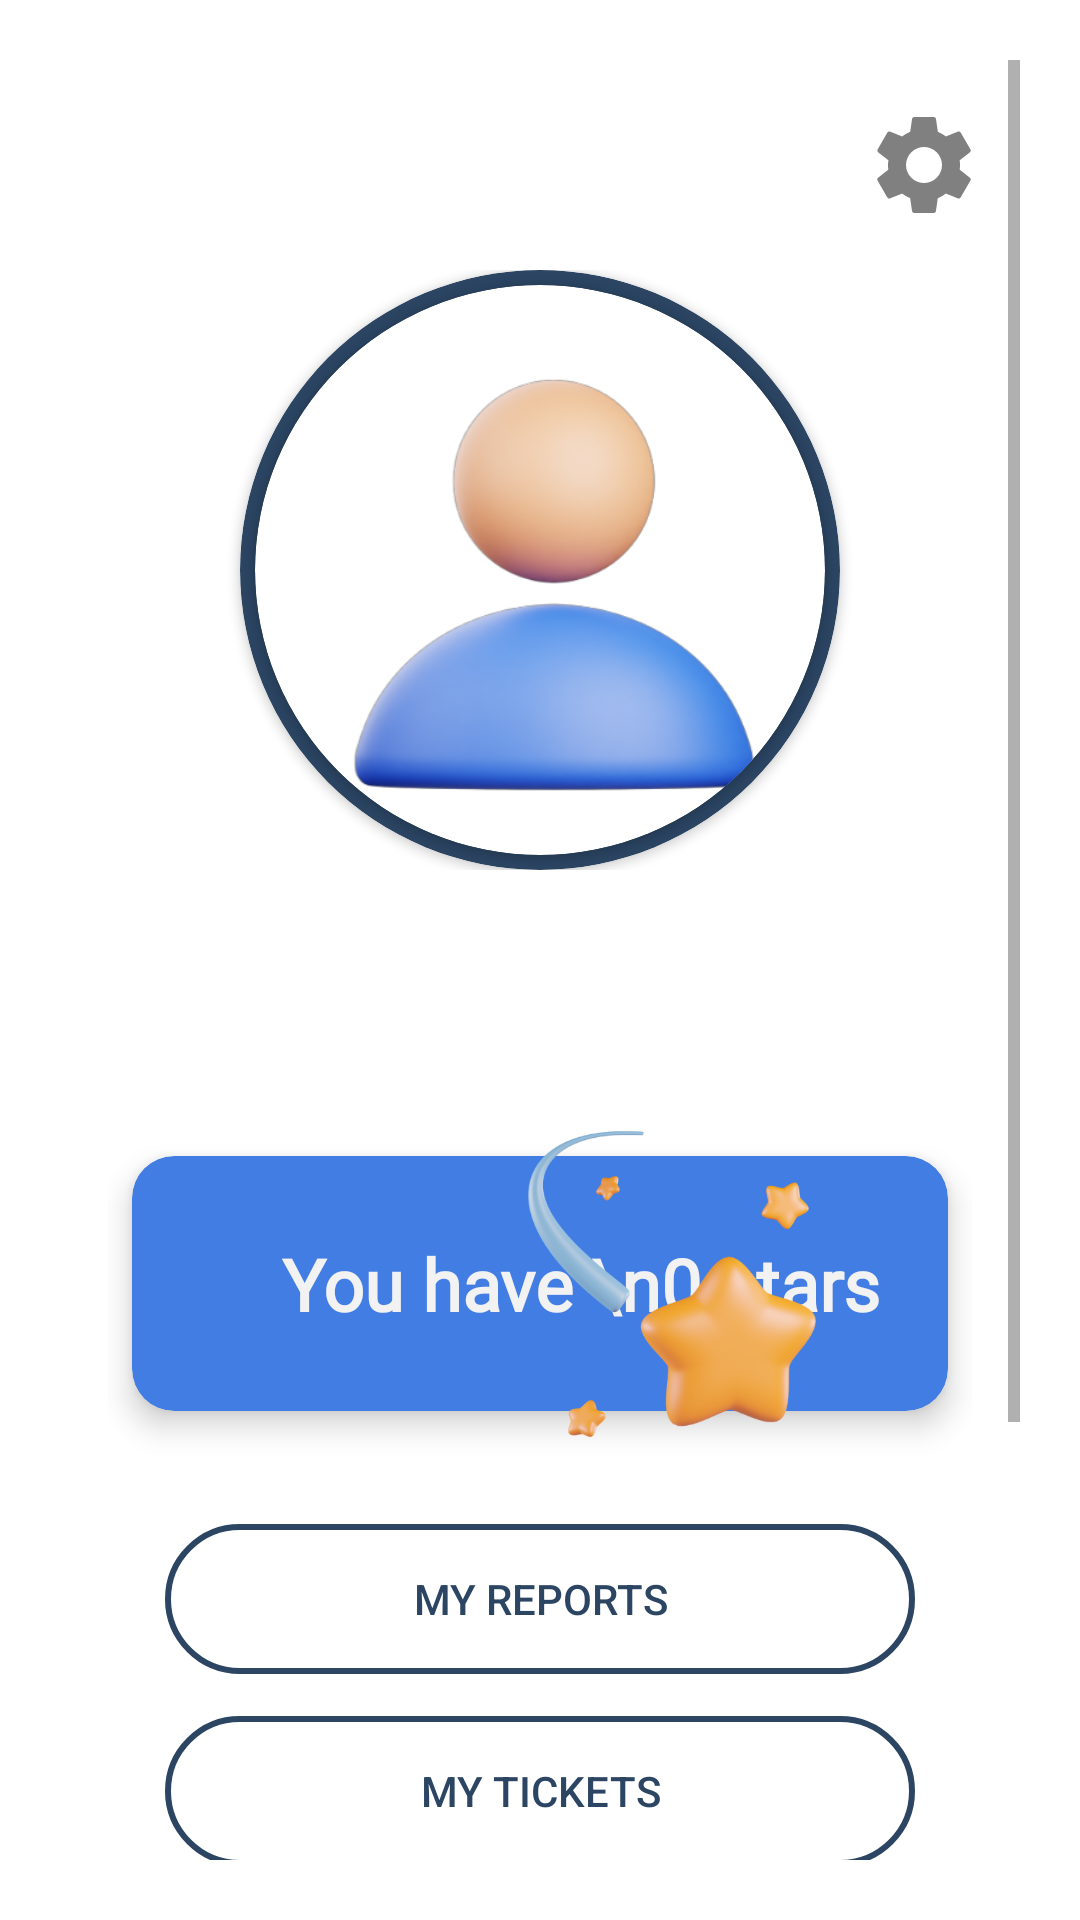

Named icons in this screenshot (1080x1920) and their centers, (x,y):
settings: (924,165)
